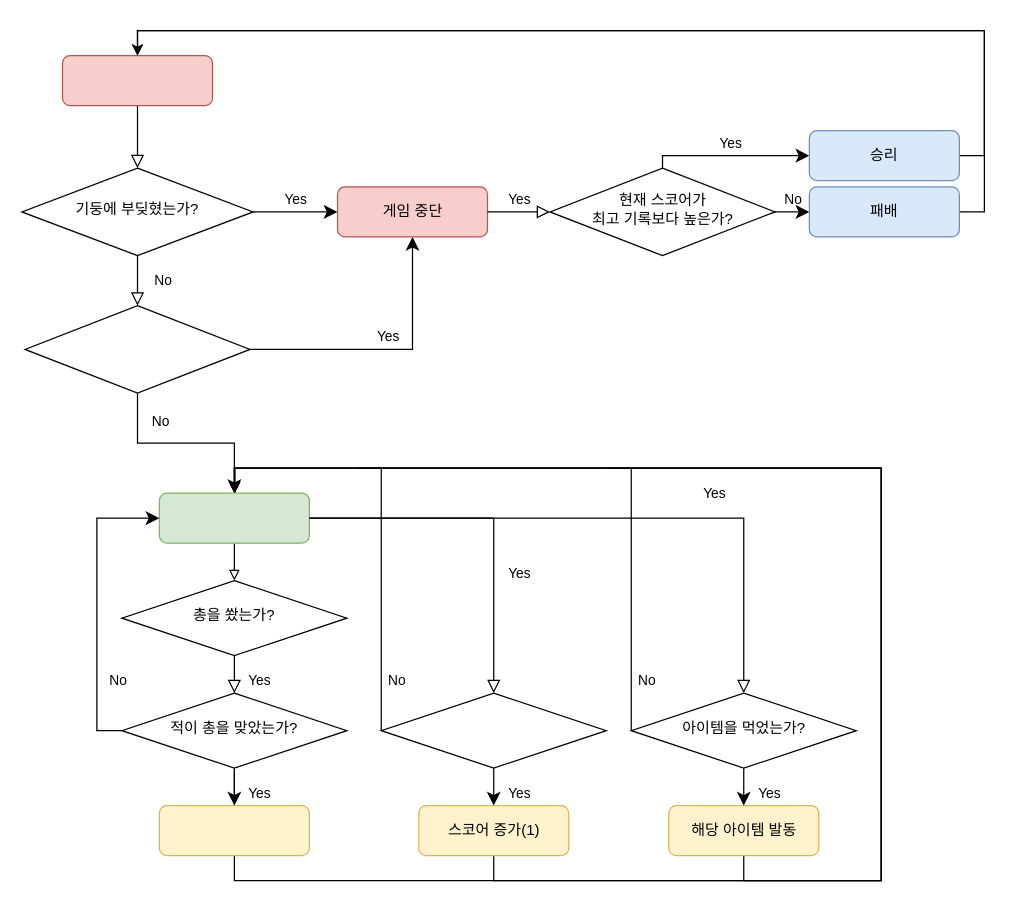
This 1016x913 diagram has some shape labels left out. Each missing label, with the centre of its shape:
게임 시작: the point at 136,80
게임 진행: the point at 233,517
기둥을 통과했는가?: the point at 493,730
스코어 증가(3): the point at 233,830
천장에 부딪혔는가?: the point at 137,348
